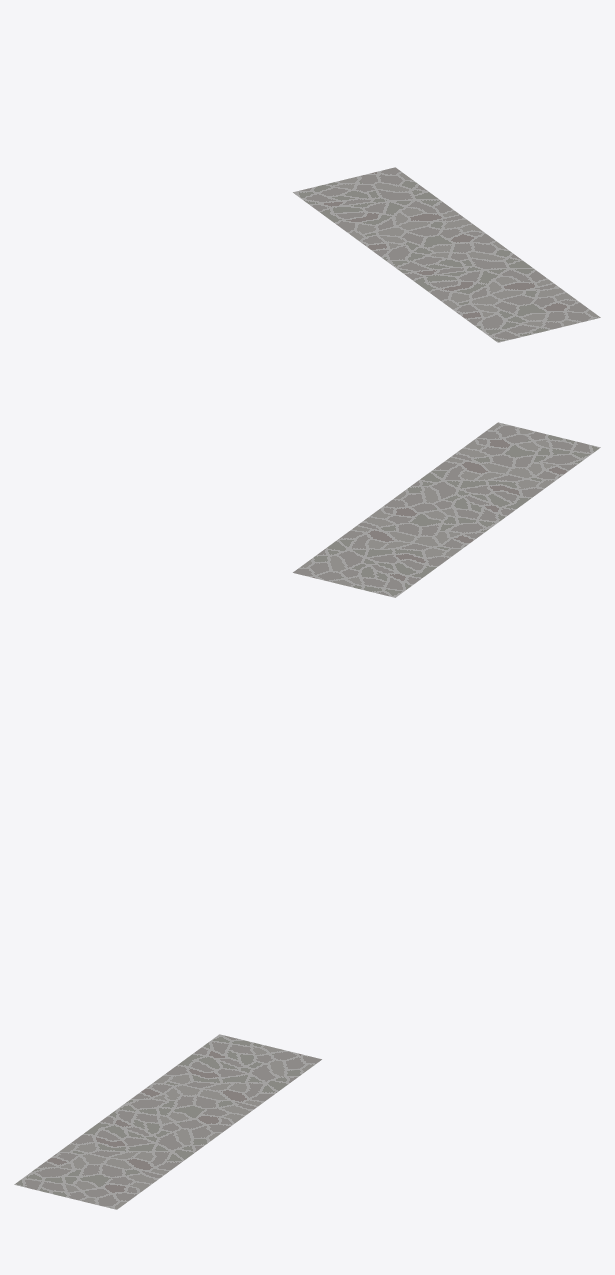
Rendered from kd_stage_135c43_4_24_bounded.glb.
3 renders of one model, top to bottom at view 1: azimuth 30°, elevation 25°; view 2: azimuth 150°, elevation 25°; view 3: azimuth 330°, elevation 25°, orthographic.
Parts seen in each view (by area): view 1: kd_stage_135c43_4_24_bounded; view 2: kd_stage_135c43_4_24_bounded; view 3: kd_stage_135c43_4_24_bounded.
Boxes of the visible parts, x1,y1,x2,y2 form: kd_stage_135c43_4_24_bounded: (293, 167, 600, 342); kd_stage_135c43_4_24_bounded: (293, 422, 600, 597); kd_stage_135c43_4_24_bounded: (14, 1034, 321, 1209).
Bounding box in the file's own units: 0.2119 × 0.1 × 1.73.
Materials: 1 (1 with a texture image).
